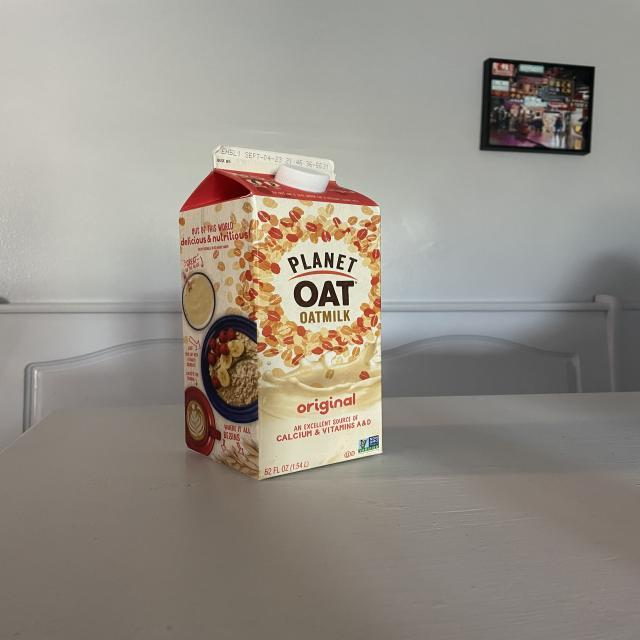Planet Oat Original: (170, 144, 393, 482)
